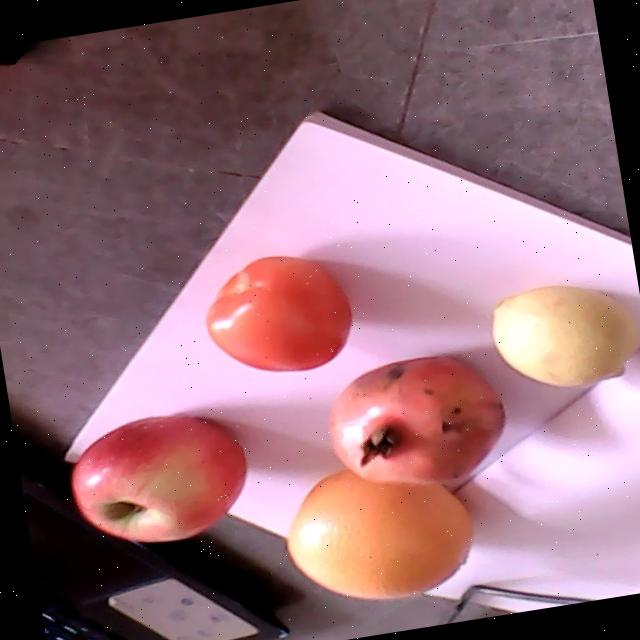apple: (72, 414, 245, 540)
lemon: (492, 283, 638, 386)
orange: (287, 468, 474, 597)
pomegranate: (327, 353, 502, 486)
tomato: (205, 253, 351, 372)
